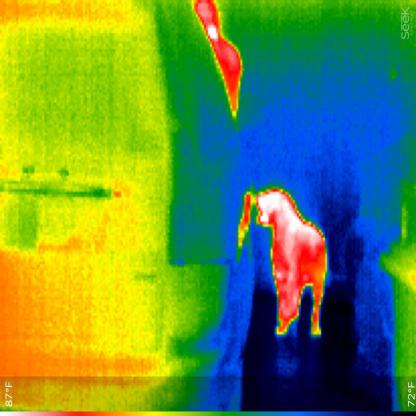dog: (254, 185, 330, 340)
